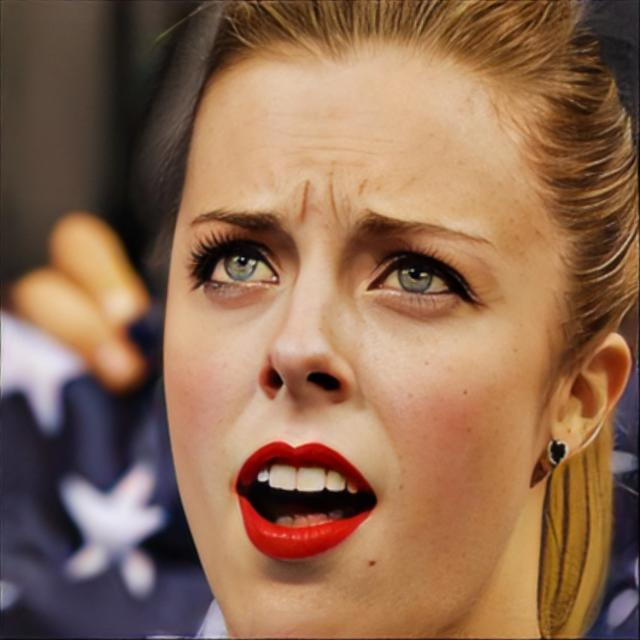disgust: (163, 0, 549, 640)
